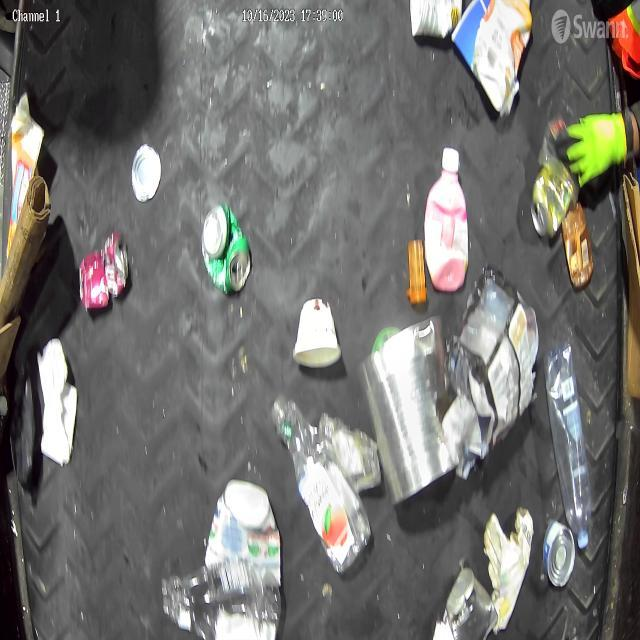can: (440, 572, 496, 640), (206, 206, 251, 290), (78, 233, 127, 305), (528, 161, 576, 230), (564, 208, 594, 284), (546, 520, 576, 586)
plastic_bottle: (269, 391, 369, 569), (160, 556, 280, 637), (550, 347, 592, 554)
